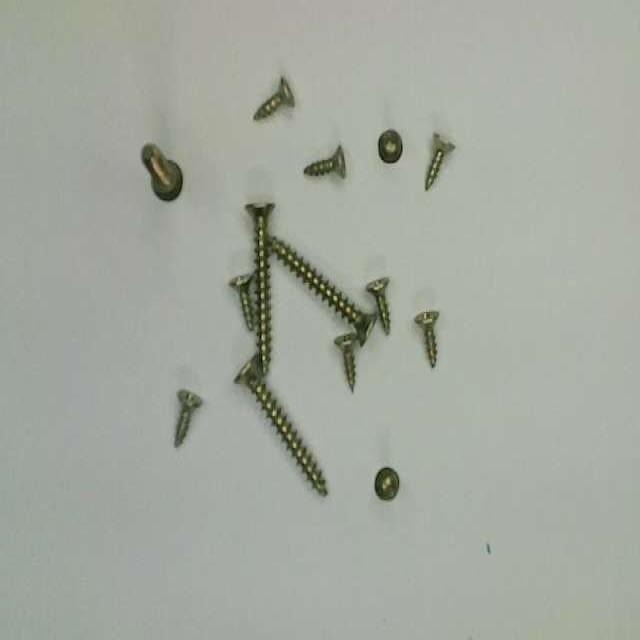Parafuso: (235, 356, 326, 493), (271, 236, 376, 344), (245, 204, 274, 372), (142, 144, 182, 200), (254, 77, 294, 119), (426, 132, 454, 189), (175, 389, 202, 445), (414, 312, 438, 367), (229, 273, 252, 329), (304, 145, 345, 176), (366, 279, 389, 333), (334, 336, 356, 392), (378, 129, 402, 163), (374, 468, 399, 499)
